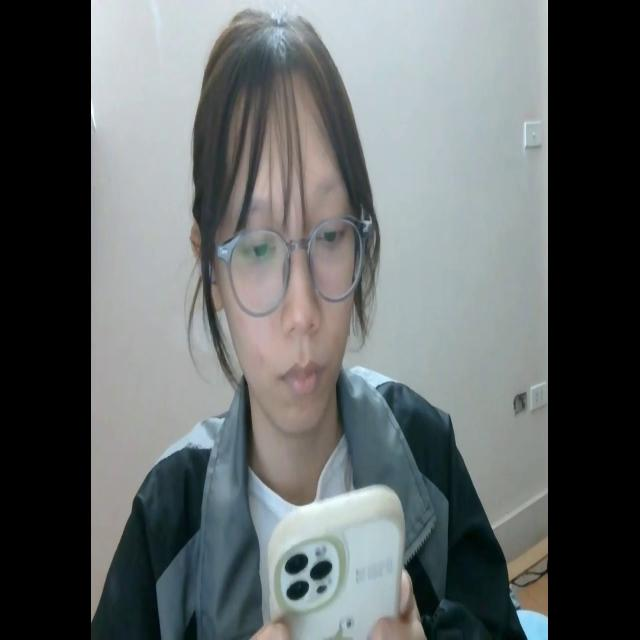phone: (262, 480, 406, 640)
student: (105, 10, 522, 640)
